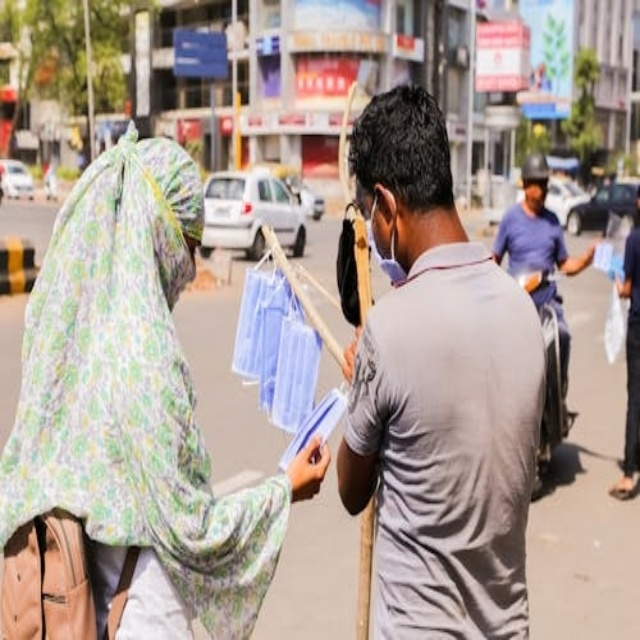Mascara: (351, 169, 404, 294), (147, 206, 198, 323)
Sin_guantes: (285, 433, 331, 503), (340, 331, 360, 387)
